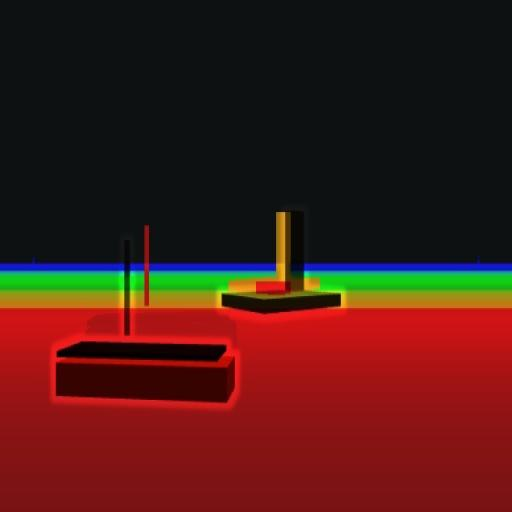platform: (220, 208, 342, 318)
vessel: (52, 232, 236, 406)
